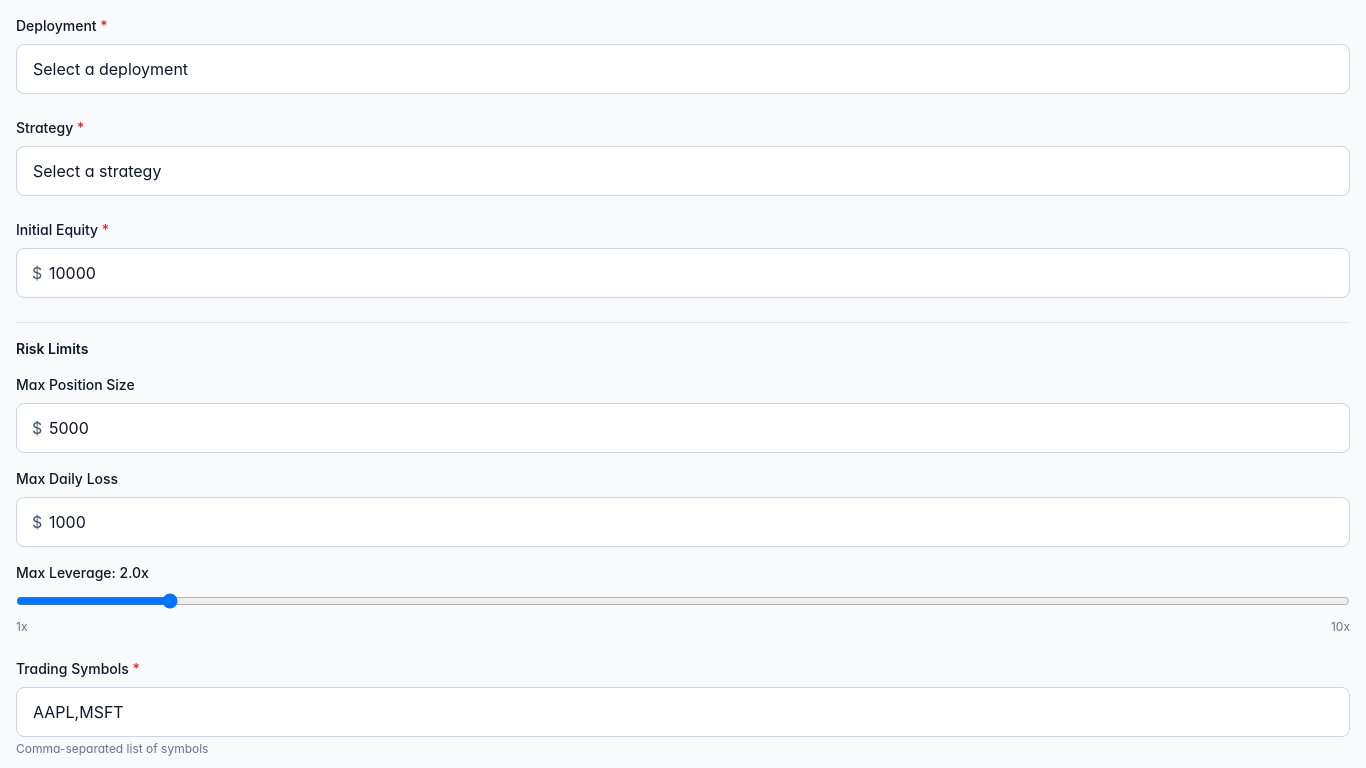
PaperTradingForm › should update form when deployment is selected
This screenshot has width=1366, height=768.
Click the button with aria-label "select deployment" at (111, 69), box [16,44,1350,94]
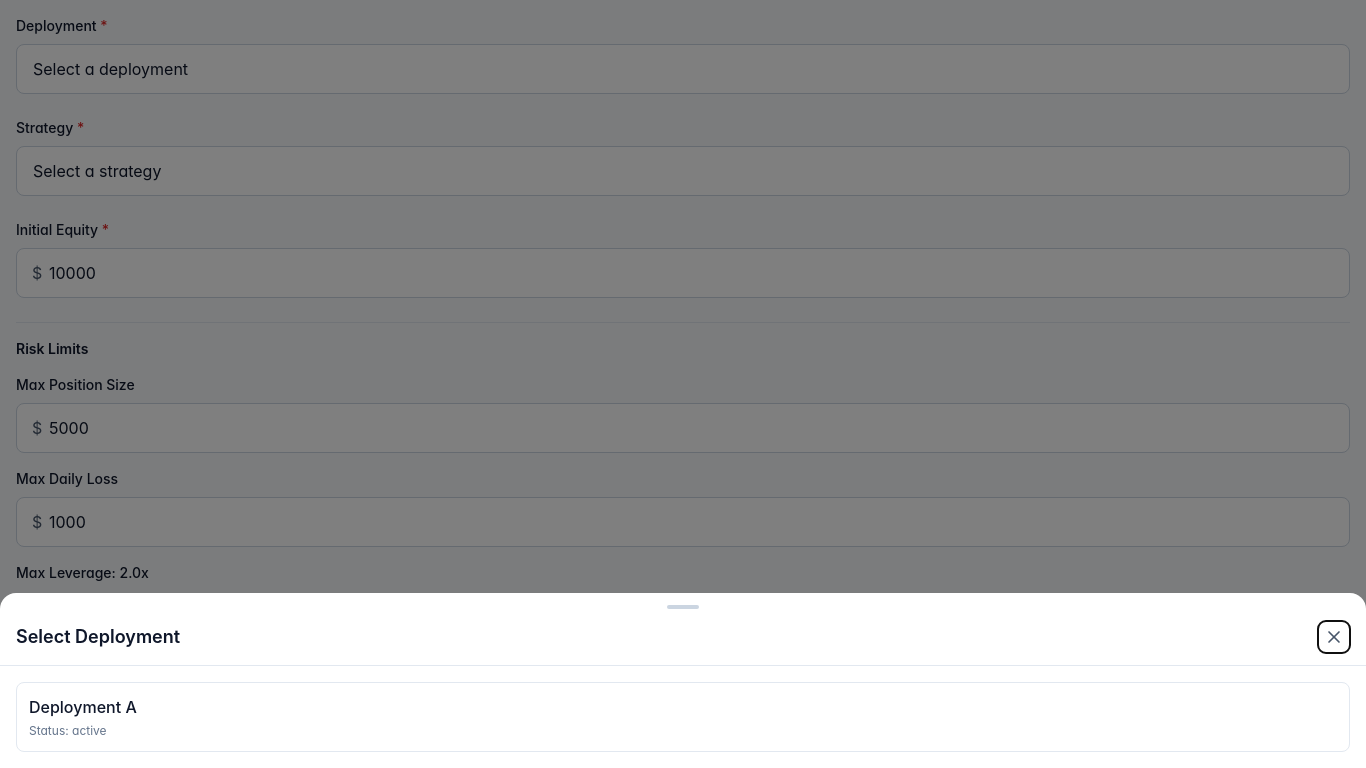
Click the text "Deployment A" at (83, 707), box [29,697,137,717]
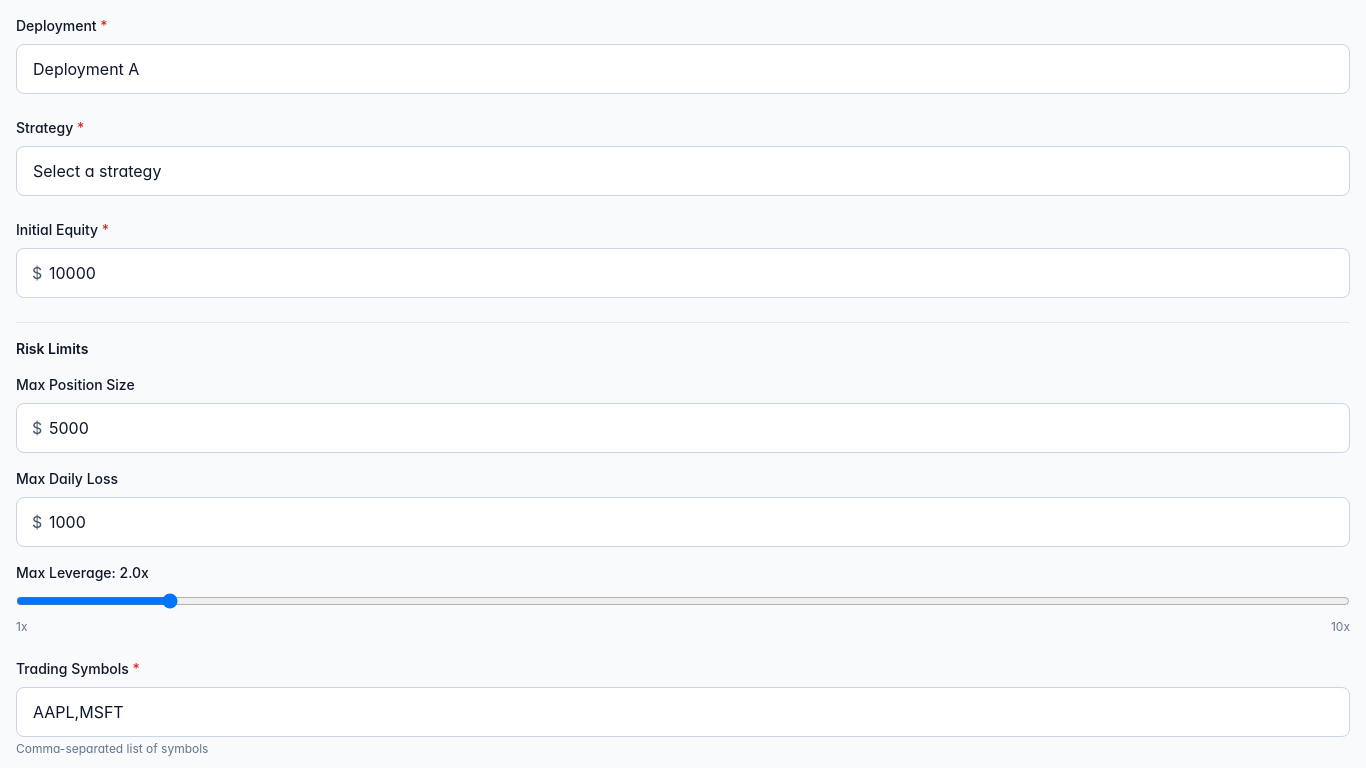
Now the button "Deployment A" is shown, box [16,44,1350,94]
